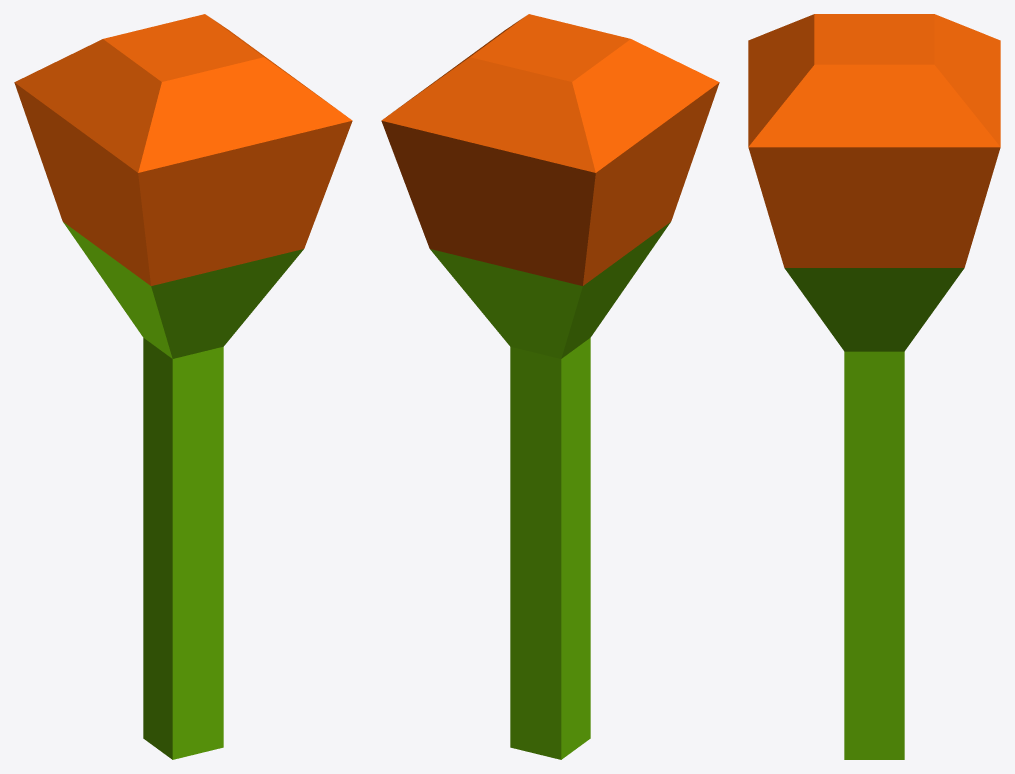
Rendered from Flower_03_Bud.fbx.
3 views of the same model, side by side, from view 1: azimuth 30°, elevation 25°; view 2: azimuth 150°, elevation 25°; view 3: azimuth 270°, elevation 25° (orthographic).
Parts seen in each view (by area): view 1: Flower_03_Bud; view 2: Flower_03_Bud; view 3: Flower_03_Bud.
Boxes of the visible parts, x1=… form: Flower_03_Bud: x1=14, y1=14, x2=352, y2=759; Flower_03_Bud: x1=381, y1=14, x2=719, y2=759; Flower_03_Bud: x1=748, y1=14, x2=1000, y2=759.
Bounding box in the file's own units: 8.4 × 26 × 8.4.
